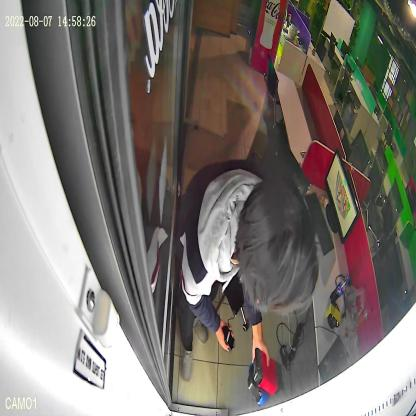blue: (248, 364, 270, 406)
red: (253, 348, 284, 396)
